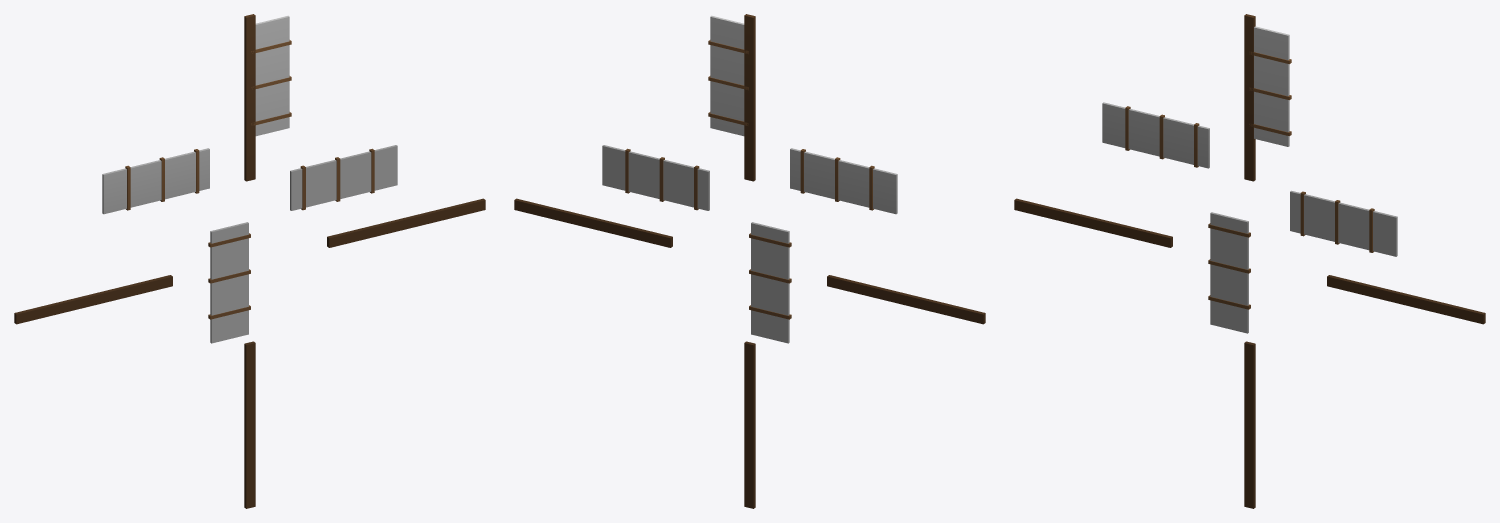
The model's file is mill_sails.glb.
The picture shows the model from 3 angles, left to right: view 1: azimuth 30°, elevation 25°; view 2: azimuth 150°, elevation 25°; view 3: azimuth 330°, elevation 25°; orthographic projection.
Parts seen in each view (by area): view 1: mill_sails; view 2: mill_sails; view 3: mill_sails.
Part boxes in pixels (x1,y1,x2,y2): mill_sails: (14, 14, 485, 508); mill_sails: (514, 14, 985, 508); mill_sails: (1014, 14, 1485, 508).
Bounding box in the file's own units: 1.5 × 1.5 × 0.012.
